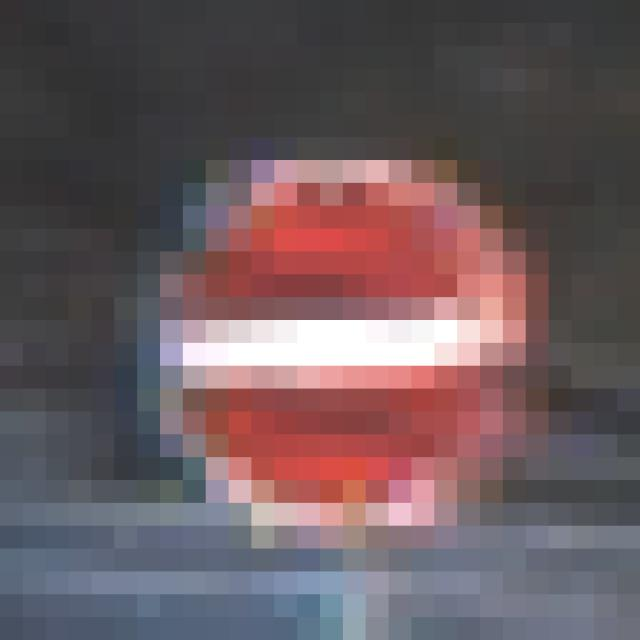No Entry: (115, 138, 527, 527)
